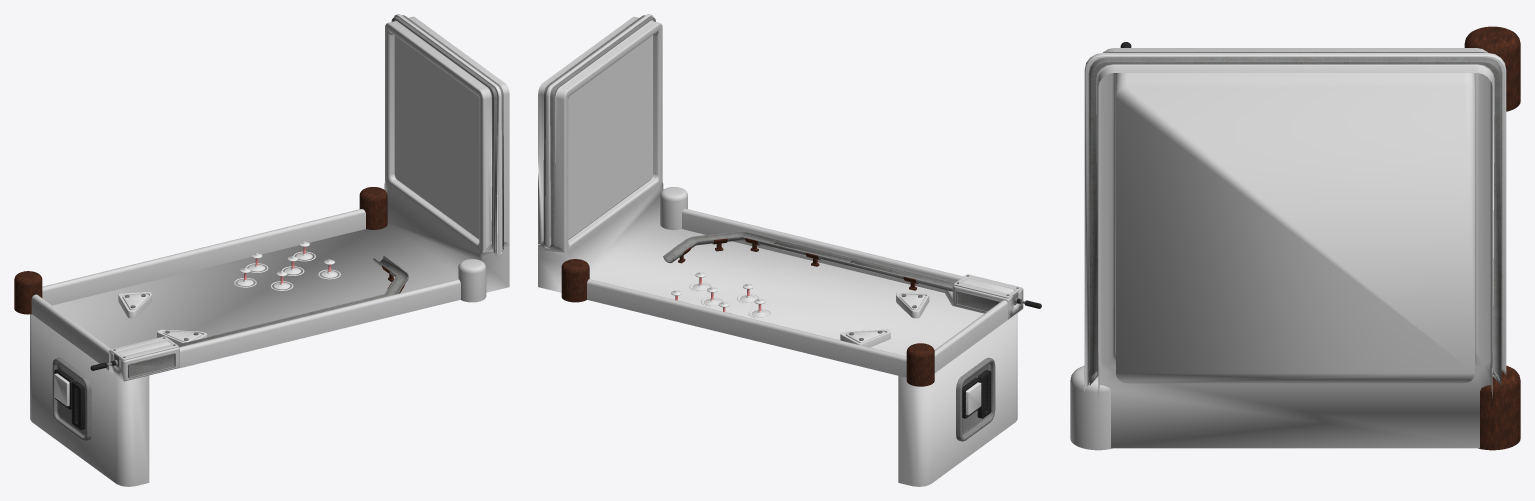
The model's file is Pinbull.fbx.
3 views of the same model, side by side, from view 1: azimuth 30°, elevation 25°; view 2: azimuth 150°, elevation 25°; view 3: azimuth 270°, elevation 25° (orthographic). The views are drawn at different scales.
Parts seen in each view (by area): view 1: Plane, Cube, Plane.001, Box, Cube.001, Cube.002, Cylinder, Cylinder.006, Cylinder.007, Cylinder.008, trianglen.002, Cube.003 (+1 smaller); view 2: Plane, Plane.001, Cube, Cylinder, Box, Cube.001, Cube.002, Cylinder.008, Cylinder.007, Cylinder.006, trianglen.002, trianglen.001 (+2 smaller); view 3: Plane, Cylinder.007, Cylinder.006, Cylinder.008.
Part boxes in pixels (x1,y1,x2,y2): Plane: (30,14,509,486); Cube: (42,209,460,368); Plane.001: (394,35,479,239); Box: (109,336,179,381); Cube.001: (31,294,111,370); Cube.002: (52,357,91,441); Cylinder: (177,256,408,347); Cylinder.006: (458,259,486,302); Cylinder.007: (359,187,387,229); Cylinder.008: (14,271,42,314); trianglen.002: (118,292,151,318); Cube.003: (71,381,85,429); Plane: (538,14,1017,486); Plane.001: (568,35,652,239); Cube: (587,209,963,377); Cylinder: (663,231,954,291); Box: (952,274,1023,319); Cube.001: (934,300,1007,372); Cube.002: (956,357,995,441); Cylinder.008: (906,343,934,386); Cylinder.007: (561,259,589,302); Cylinder.006: (660,187,687,229); trianglen.002: (840,329,890,347); trianglen.001: (896,292,929,318); Plane: (1084,48,1506,448); Cylinder.007: (1478,365,1520,450); Cylinder.006: (1070,365,1112,450); Cylinder.008: (1464,26,1520,111).
Size of the model in its own units: 477 by 345 by 226.
